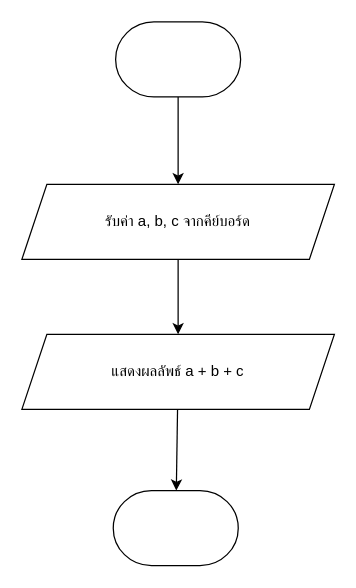
The diagram is 356 pixels wide and 588 high, and some of its shapes have lost their labels. The shapes that lost their labels are listed below. From the top down, each one's centre as x and y in pixels, then its label:
At (177,59): "Start".
At (175,527): "End".
